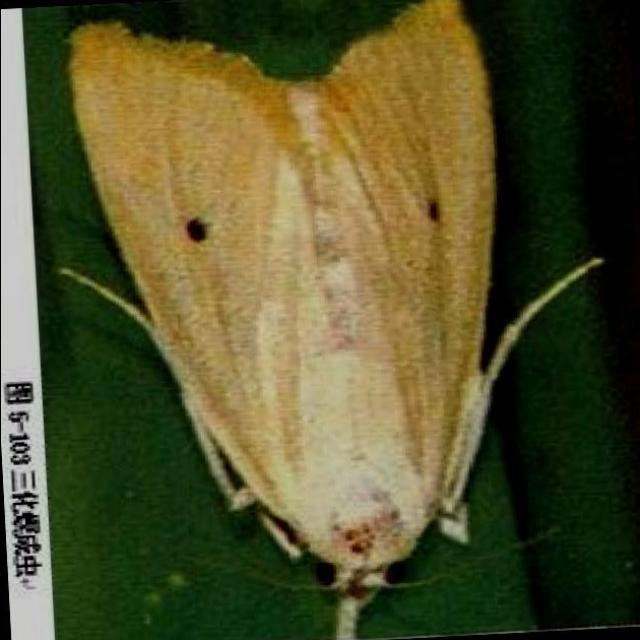stem borer: (61, 0, 600, 639)
